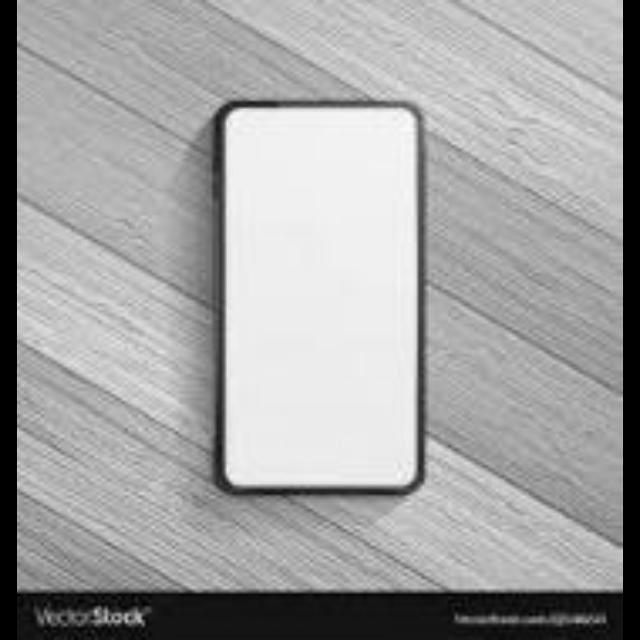fake: (218, 100, 426, 496)
